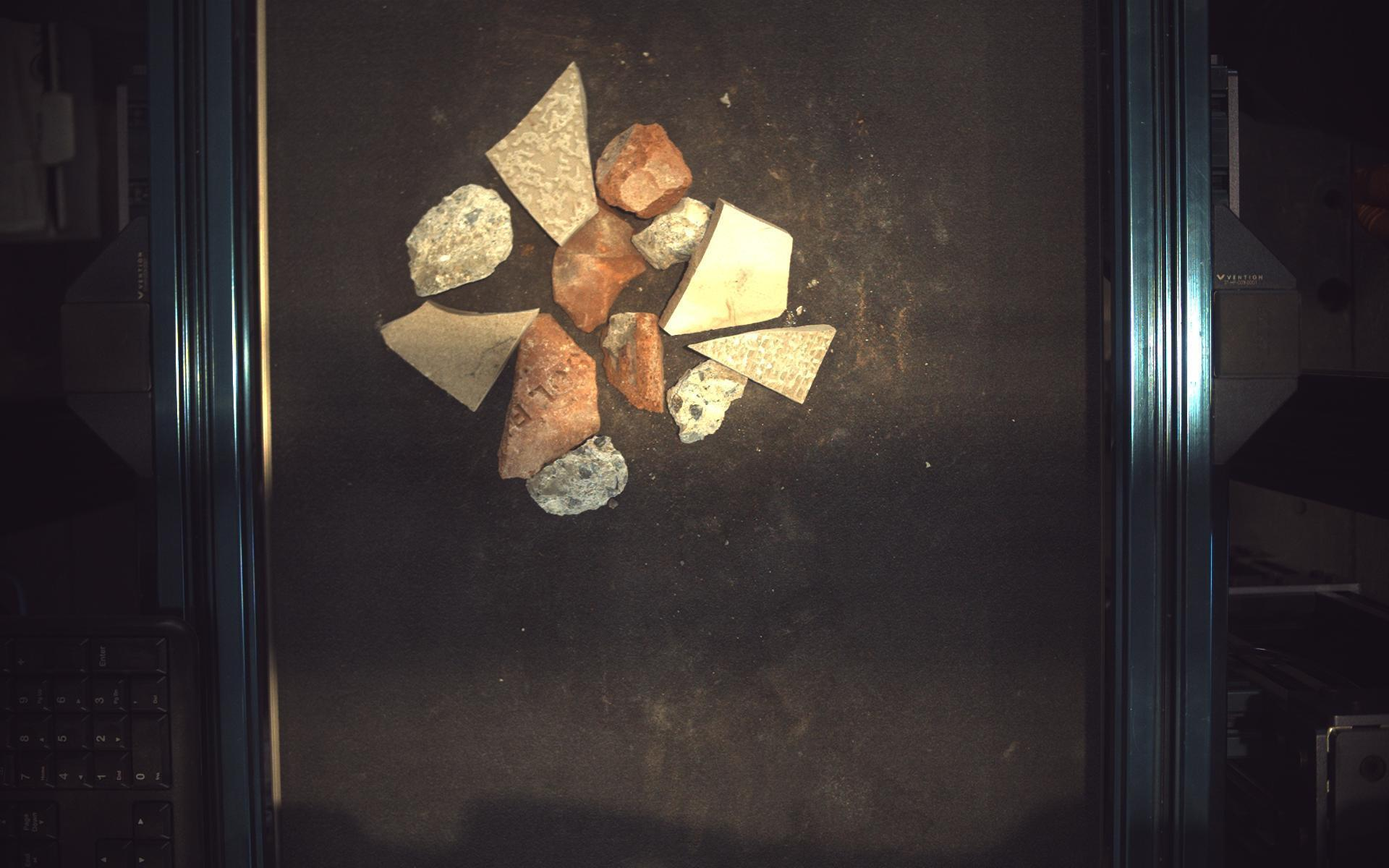brick: (496, 311, 601, 479), (551, 201, 647, 332), (594, 120, 693, 218), (600, 310, 666, 413)
concrete: (404, 181, 513, 296), (524, 433, 629, 516), (667, 358, 749, 444), (632, 193, 713, 269)
tile: (484, 59, 599, 244), (658, 195, 794, 335), (378, 299, 539, 411), (687, 322, 838, 404)
